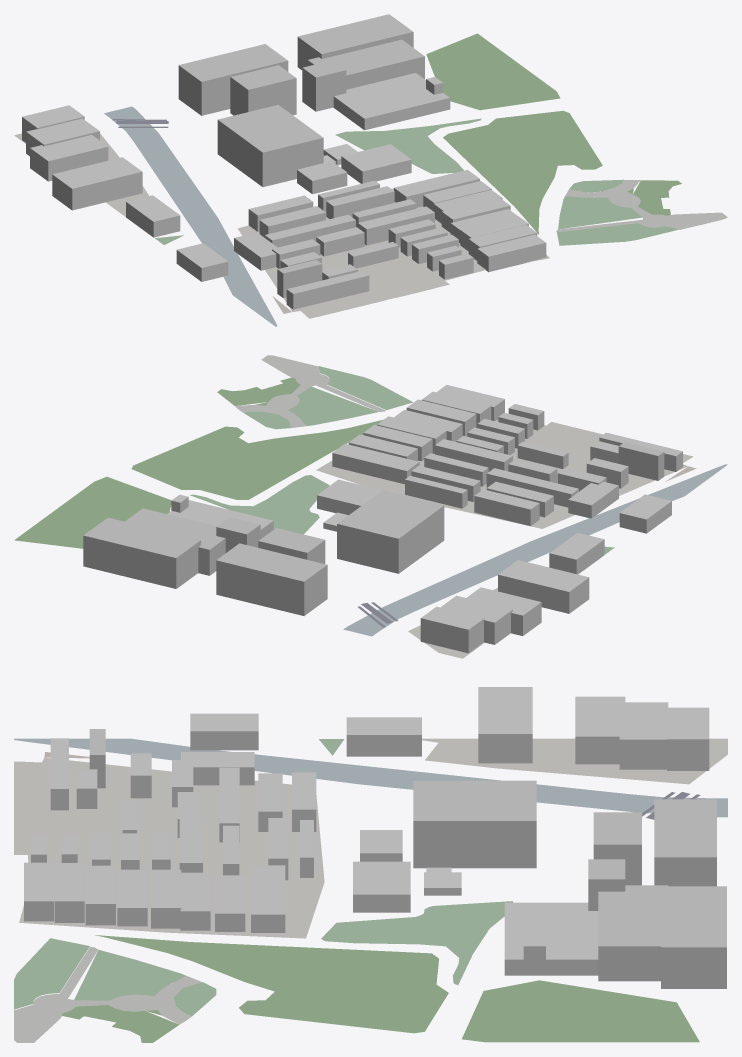
File: 135_104_mid.glb
3 views of the same model, one above another, from view 1: azimuth 30°, elevation 25°; view 2: azimuth 150°, elevation 25°; view 3: azimuth 270°, elevation 25° (orthographic). The views are drawn at different scales.
Bounding box in the file's own units: 537 × 40.16 × 500.
